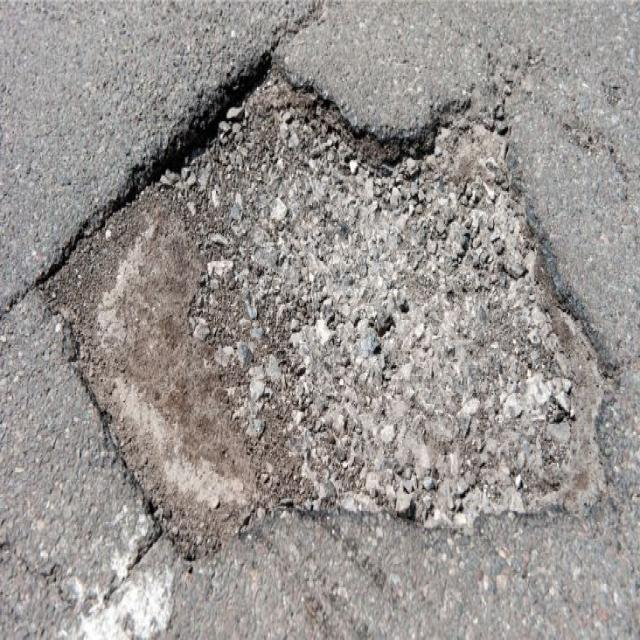Pothole: (39, 41, 622, 573)
